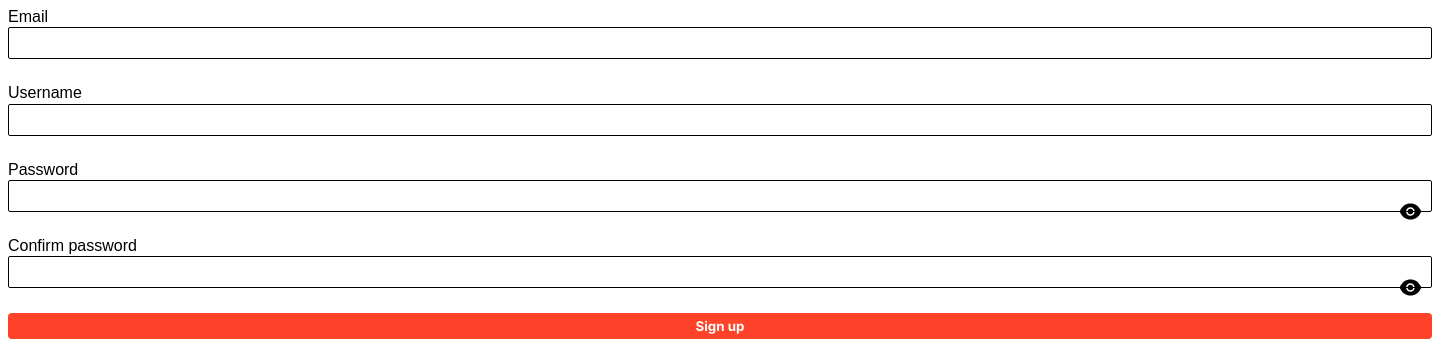
Test: SingupForm › Should show valdation error when input is invalid
In the field labelled "Email": (720, 43) x1=8 y1=27 x2=1432 y2=59, type "aditnegara"
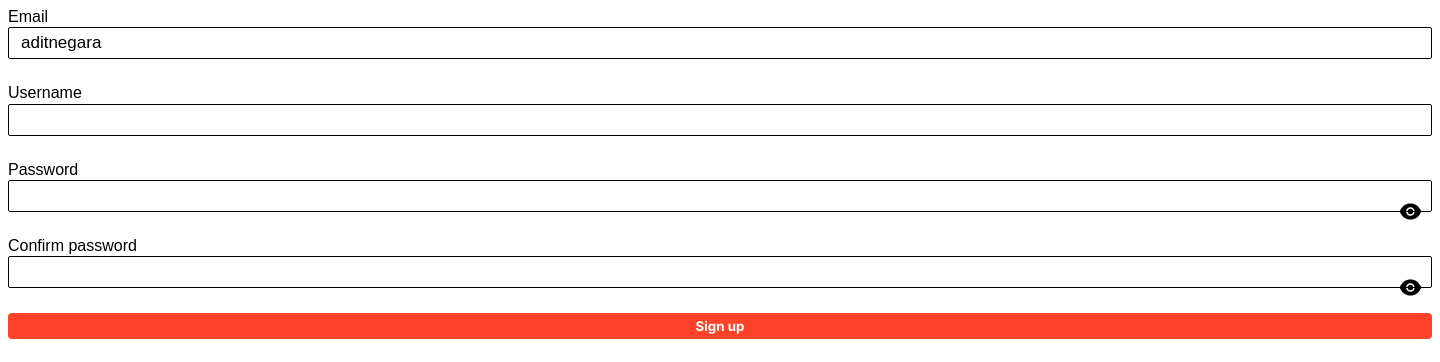
In the password field labelled "Password": (720, 196) x1=8 y1=180 x2=1432 y2=212, type "testing"
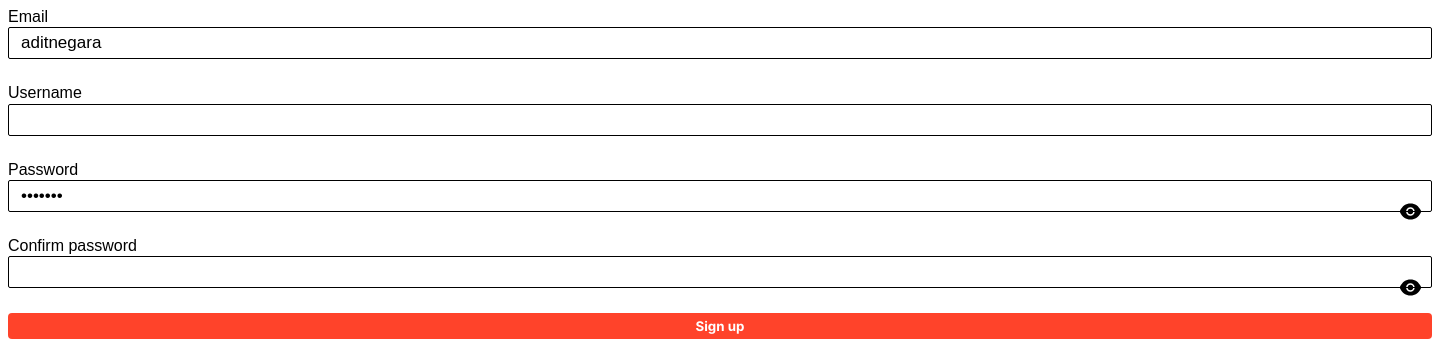
In the password field labelled "Confirm password": (720, 272) x1=8 y1=256 x2=1432 y2=288, type "testing"
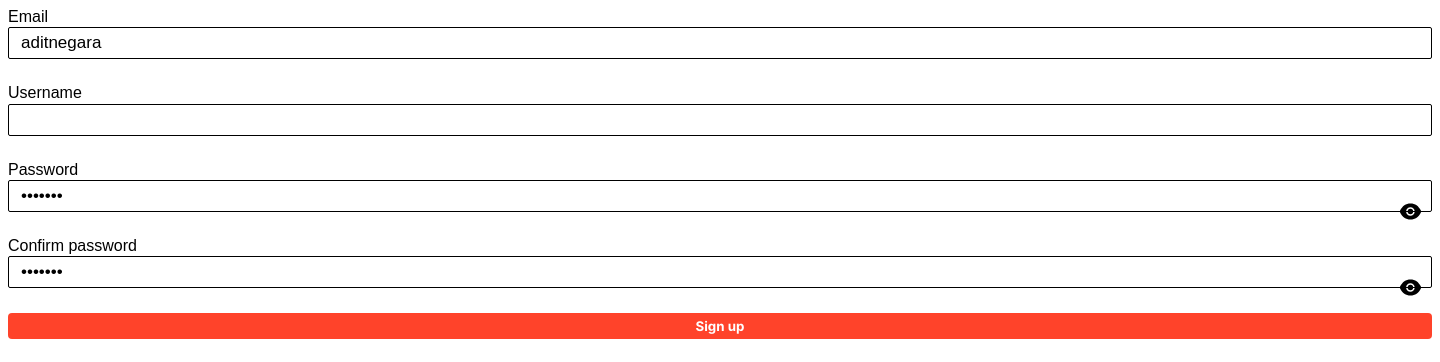
Click the button "Sign up": (720, 326) x1=8 y1=313 x2=1432 y2=339
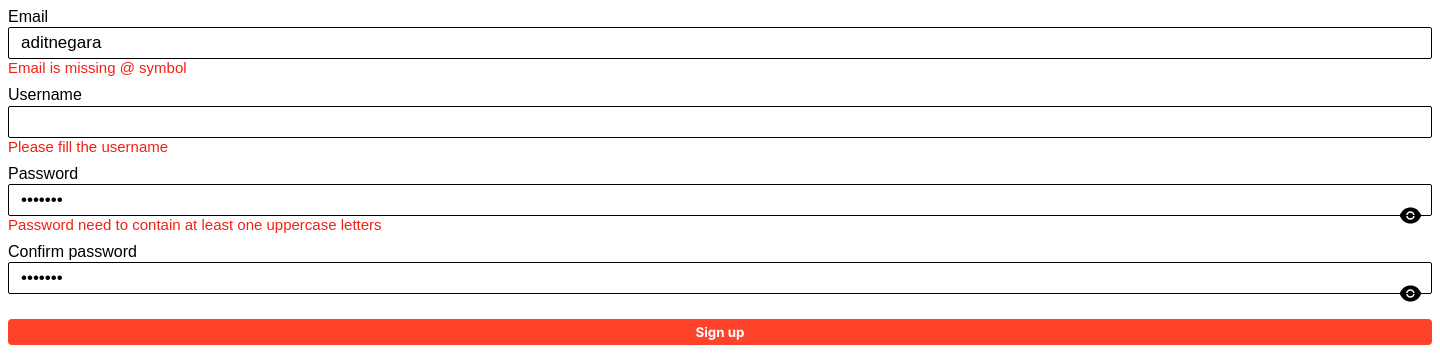
Check: the text "Email is missing @ symbol" is shown, box x1=8 y1=59 x2=187 y2=76
Check: the text "Please fill the username" is shown, box x1=8 y1=138 x2=168 y2=155
Check: the text "Password need to contain at least one uppercase letters" is shown, box x1=8 y1=216 x2=382 y2=233
